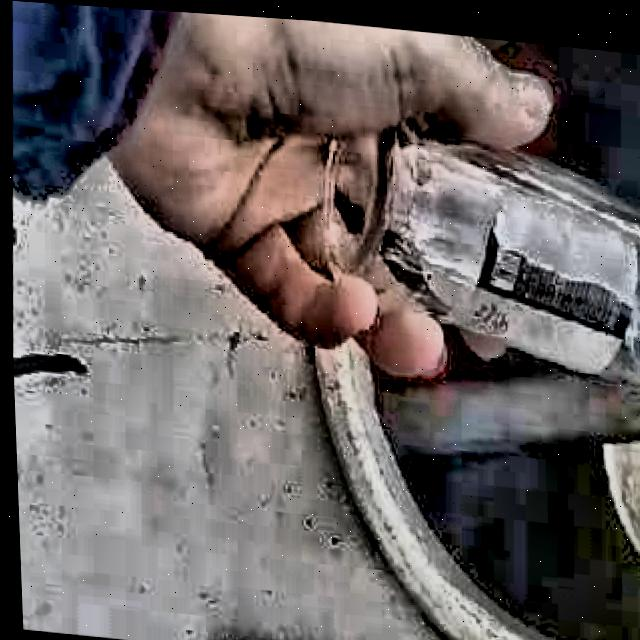glass: (320, 124, 640, 380)
